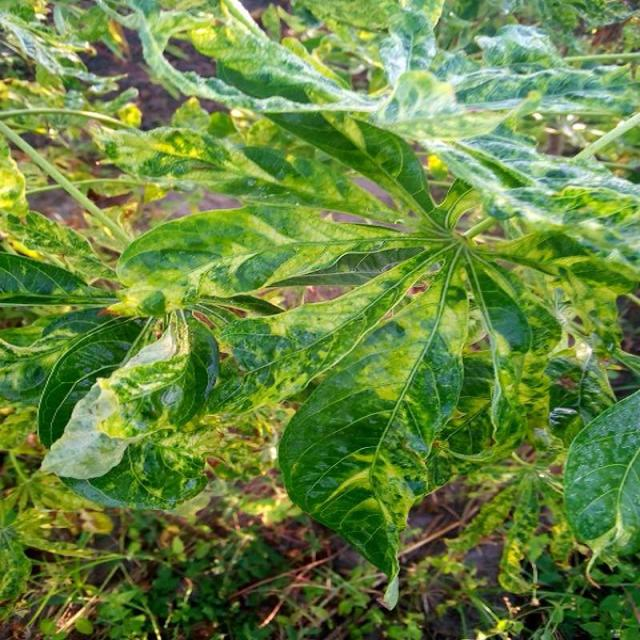cassava leaf: (3, 0, 639, 607), (278, 262, 472, 607), (39, 307, 221, 510), (563, 387, 640, 570)
